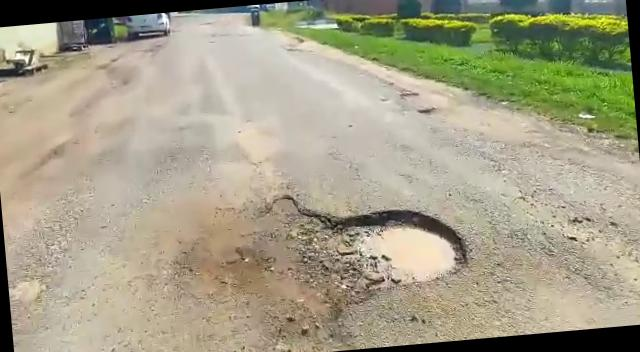pothole: (196, 178, 473, 334), (8, 274, 50, 311)
